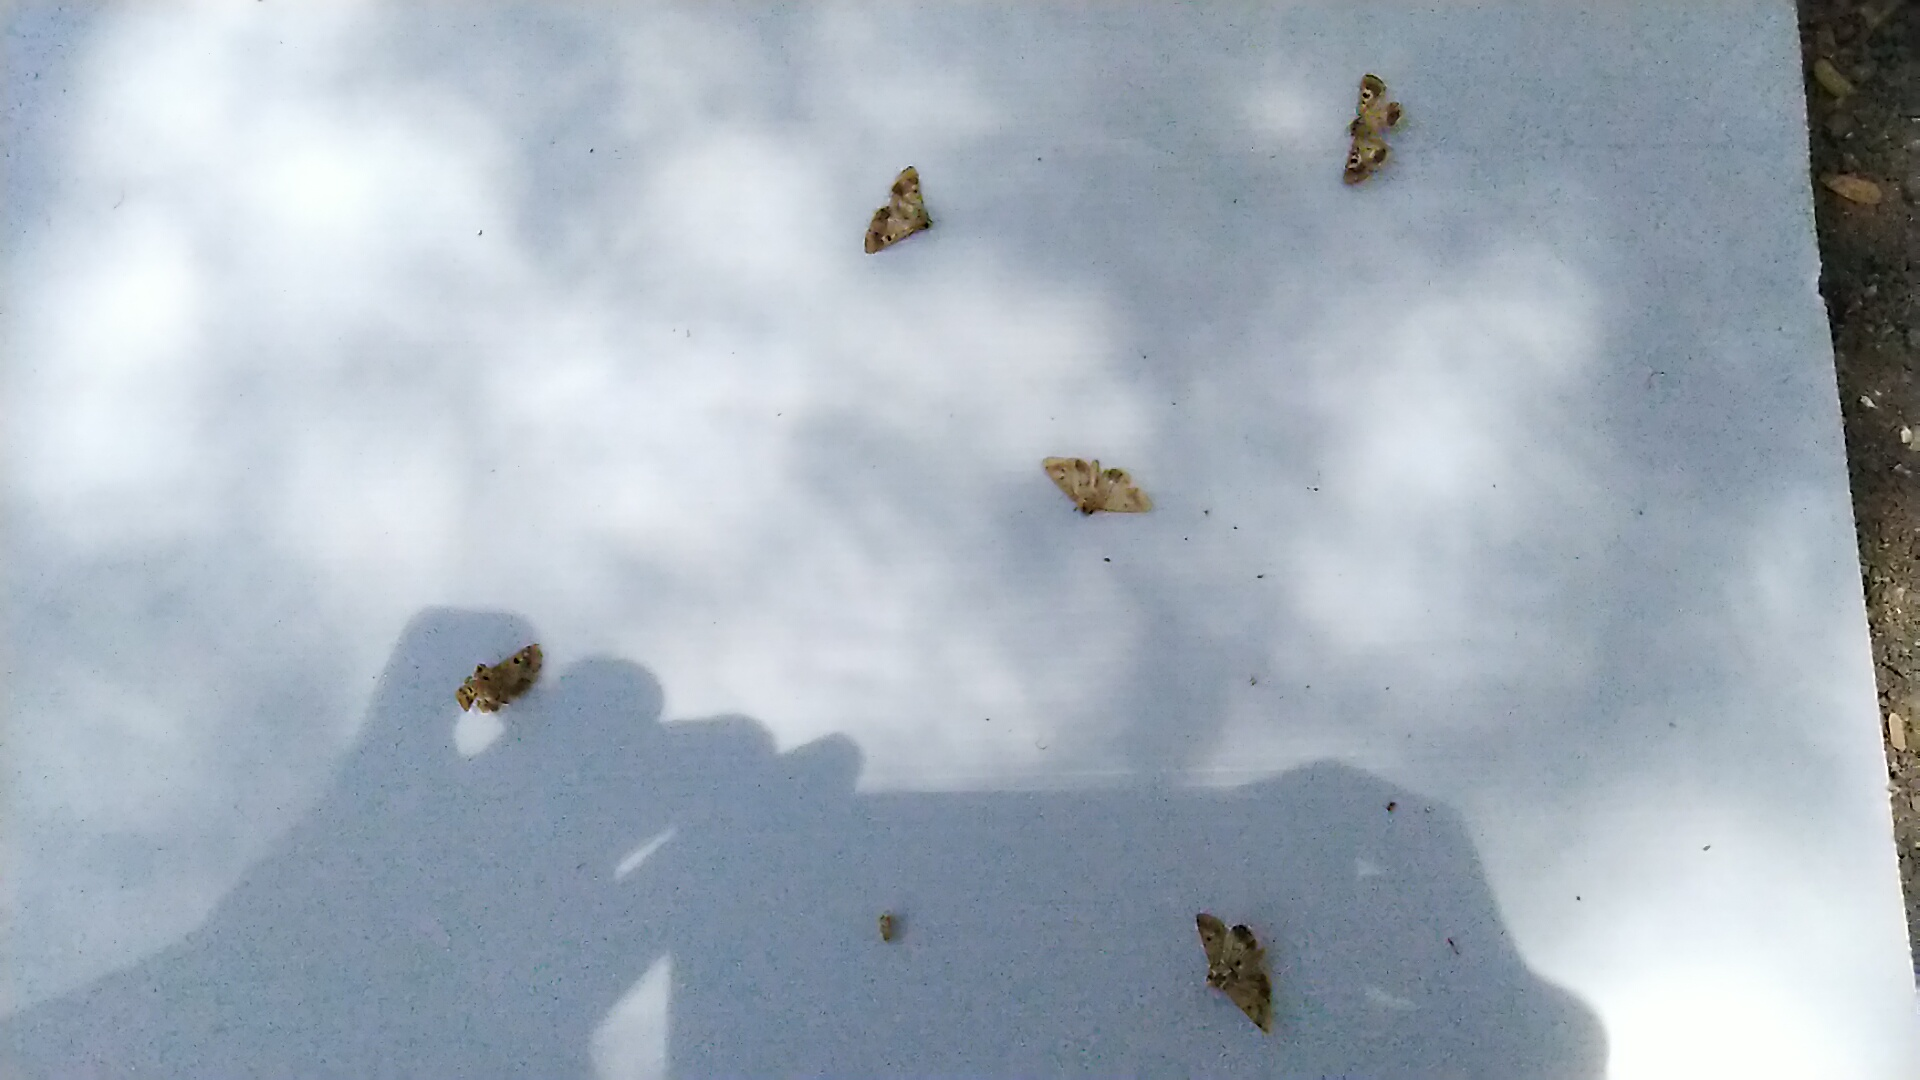INS-C: (1187, 894, 1291, 1042), (1031, 434, 1158, 530), (1331, 67, 1416, 185), (440, 632, 547, 719), (856, 161, 938, 257)
